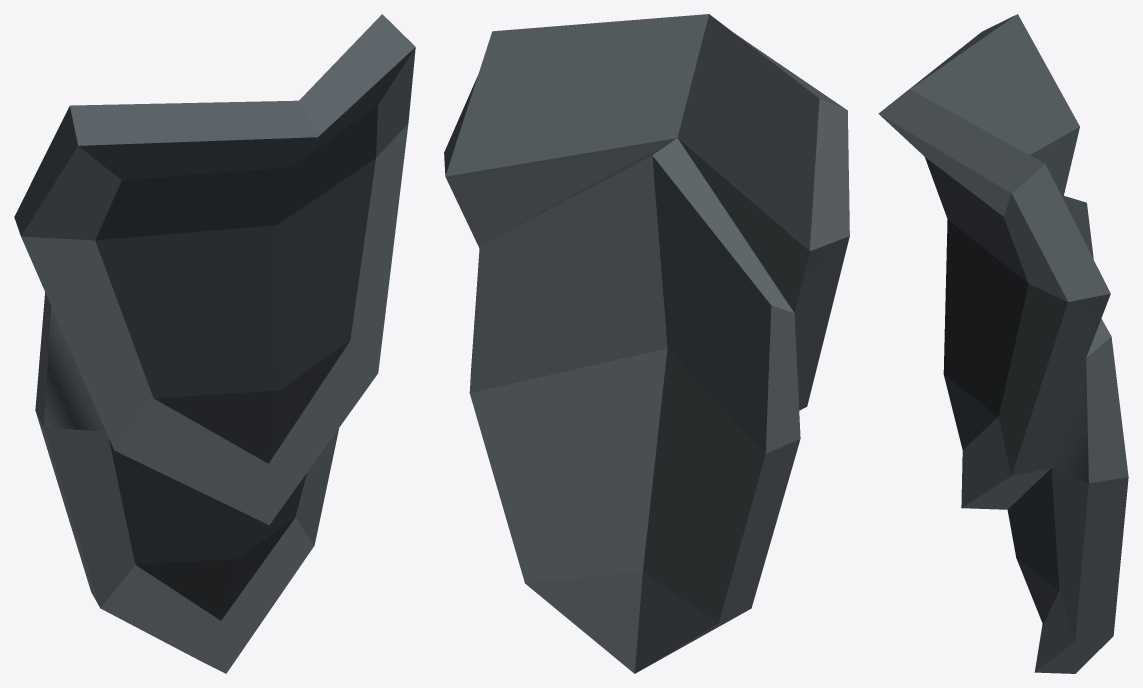
The model's file is Chr_KneeAttachLeft_06_Static.fbx.
The picture shows the model from 3 angles, left to right: view 1: azimuth 30°, elevation 25°; view 2: azimuth 150°, elevation 25°; view 3: azimuth 270°, elevation 25°; orthographic projection. The views are drawn at different scales.
Visible parts, largest first — view 1: Chr_KneeAttachLeft_06_Static; view 2: Chr_KneeAttachLeft_06_Static; view 3: Chr_KneeAttachLeft_06_Static.
Boxes of the visible parts, x1,y1,x2,y2 form: Chr_KneeAttachLeft_06_Static: [14, 14, 415, 673]; Chr_KneeAttachLeft_06_Static: [444, 14, 849, 673]; Chr_KneeAttachLeft_06_Static: [878, 14, 1128, 673].
Bounding box in the file's own units: 0.1583 × 0.2322 × 0.0894.
